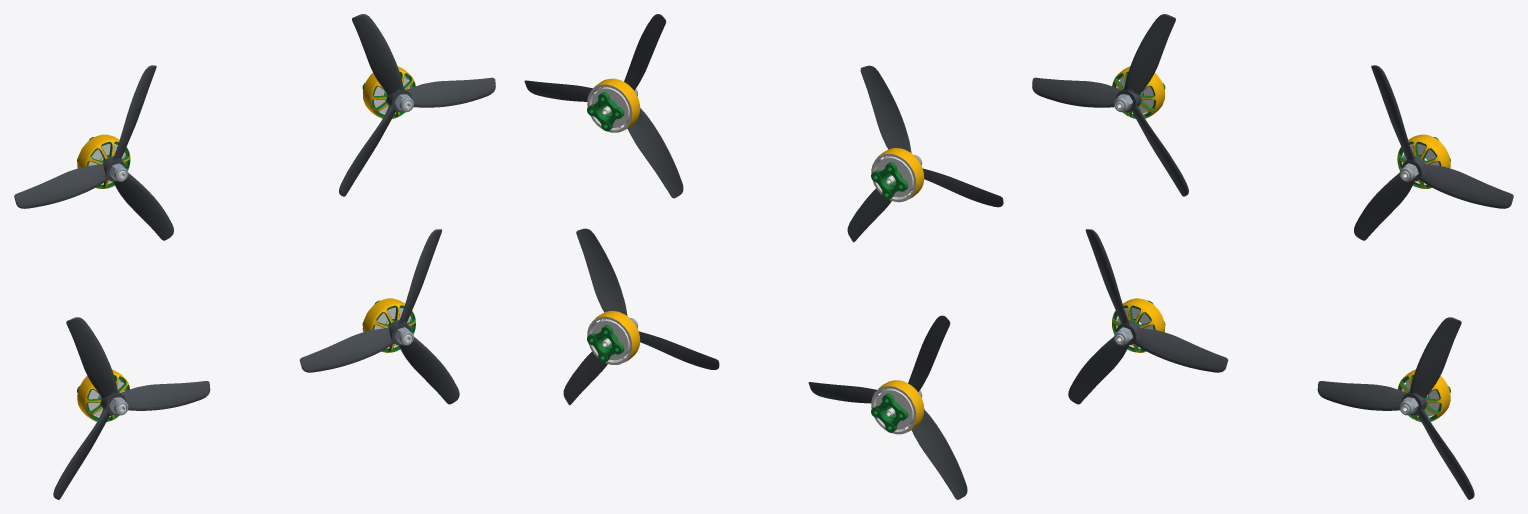
The model's file is drive.glb.
3 renders of one model, left to right at view 1: azimuth 30°, elevation 25°; view 2: azimuth 150°, elevation 25°; view 3: azimuth 330°, elevation 25°, orthographic.
Visible parts, largest first — view 1: prop-3, prop-2, prop-1, prop-4, motor-1-body-3, motor-3-body-2, motor-4-body-3, motor-2-body-0; view 2: prop-2, prop-3, prop-1, prop-4, motor-3-body-3, motor-1-body-1, motor-4-body-1, motor-2-body-3, motor-2-body-0, motor-4-body-3, motor-1-body-3, motor-3-body-2; view 3: prop-1, prop-4, prop-3, prop-2, motor-2-body-0, motor-4-body-3, motor-3-body-2, motor-1-body-3.
Part boxes in pixels (x1,y1,x2,y2): prop-3: (339,14,495,196); prop-2: (53,317,210,499); prop-1: (299,229,459,404); prop-4: (14,65,173,240); motor-1-body-3: (77,134,130,188); motor-3-body-2: (362,298,415,352); motor-4-body-3: (77,369,130,421); motor-2-body-0: (363,66,415,118); prop-2: (808,315,967,499); prop-3: (524,14,683,198); prop-1: (563,228,719,405); prop-4: (847,65,1003,242); motor-3-body-3: (587,317,632,362); motor-1-body-1: (871,156,916,199); motor-4-body-1: (871,388,916,432); motor-2-body-3: (587,85,629,131); motor-2-body-0: (587,78,640,132); motor-4-body-3: (871,380,924,434); motor-1-body-3: (871,148,924,202); motor-3-body-2: (587,311,640,364); prop-1: (1317,317,1474,499); prop-4: (1032,14,1188,196); prop-3: (1354,65,1513,240); prop-2: (1068,229,1228,404); motor-2-body-0: (1397,134,1450,188); motor-4-body-3: (1112,298,1165,352); motor-3-body-2: (1397,369,1450,422); motor-1-body-3: (1112,66,1164,118).
Bounding box in the file's own units: 0.2998 × 0.2463 × 0.0308.
